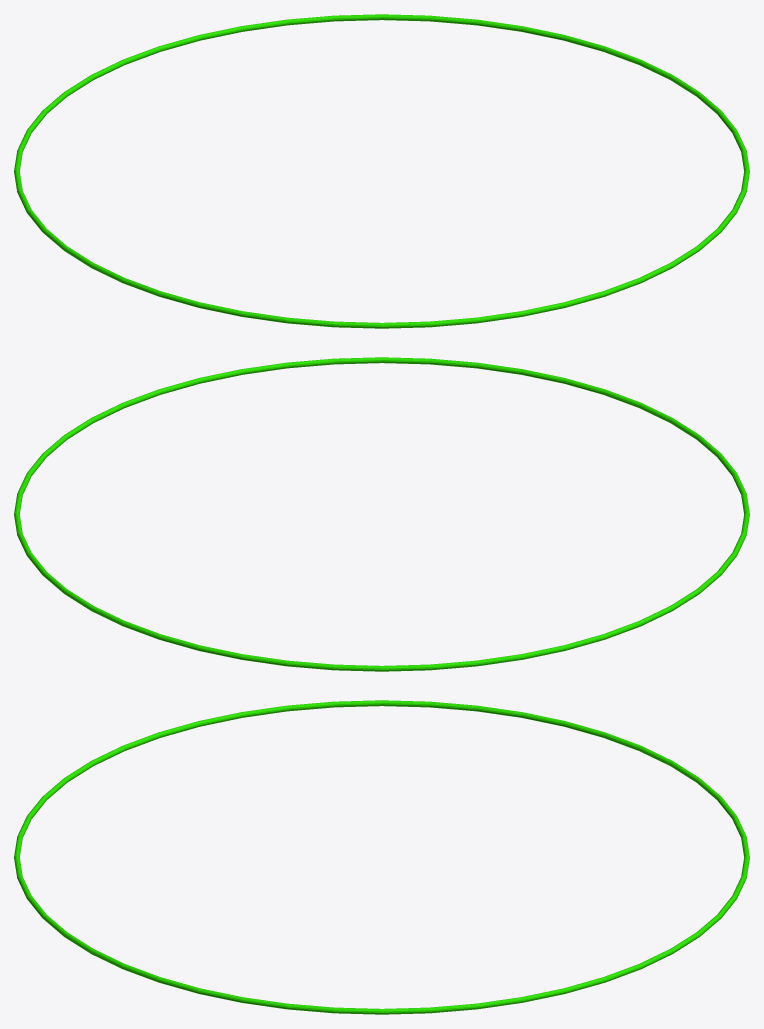
File: walk_routes.glb
The picture shows the model from 3 angles, top to bottom: view 1: azimuth 30°, elevation 25°; view 2: azimuth 150°, elevation 25°; view 3: azimuth 270°, elevation 25°; orthographic projection.
Visible parts, largest first — view 1: walk_routes.glb; view 2: walk_routes.glb; view 3: walk_routes.glb.
Part boxes in pixels (x1=…): walk_routes.glb: x1=14, y1=14, x2=749, y2=328; walk_routes.glb: x1=14, y1=357, x2=749, y2=671; walk_routes.glb: x1=14, y1=700, x2=749, y2=1014.
Bounding box in the file's own units: 63.3 × 0.5 × 63.3.
